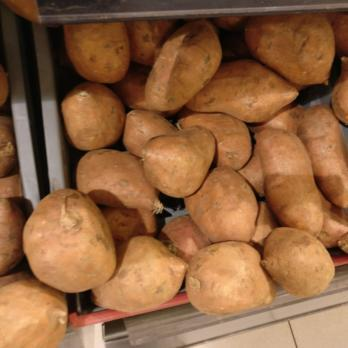Sweet potato: (59, 16, 348, 313), (25, 185, 117, 292), (0, 275, 68, 348)
